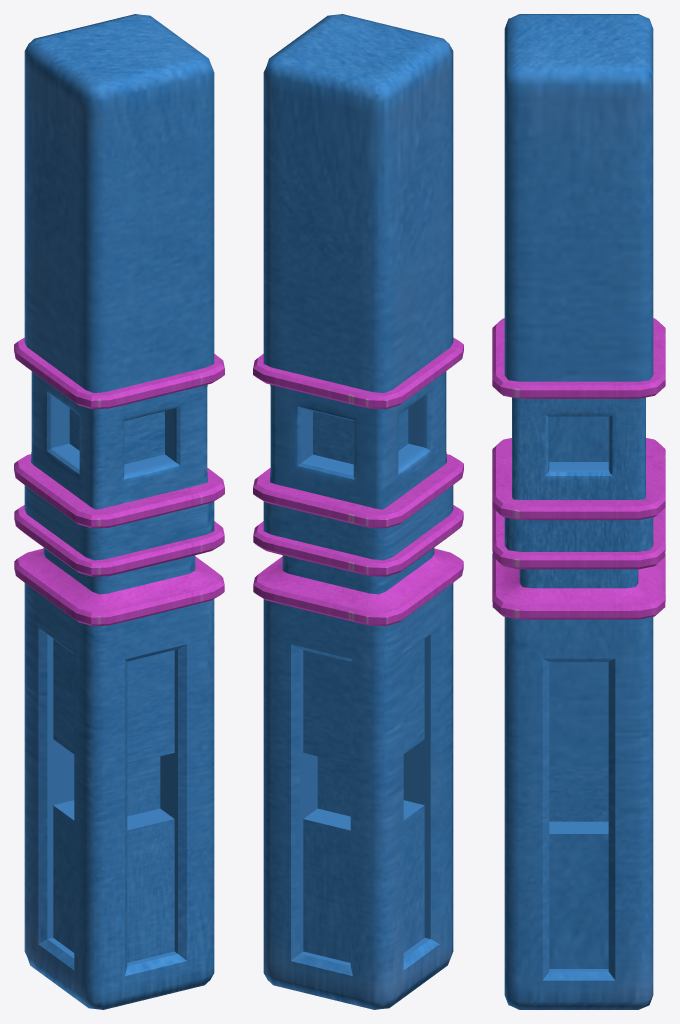
File: Pillar_PsychShift_Textured 1.fbx
3 renders of one model, left to right at view 1: azimuth 30°, elevation 25°; view 2: azimuth 150°, elevation 25°; view 3: azimuth 270°, elevation 25°, orthographic.
Parts seen in each view (by area): view 1: polySurface27, polySurface7; view 2: polySurface27, polySurface7; view 3: polySurface27, polySurface7.
Boxes of the visible parts, x1=… form: polySurface27: x1=24, y1=14, x2=214, y2=1009; polySurface7: x1=14, y1=337, x2=224, y2=626; polySurface27: x1=263, y1=14, x2=453, y2=1009; polySurface7: x1=253, y1=337, x2=463, y2=626; polySurface27: x1=504, y1=14, x2=653, y2=1009; polySurface7: x1=492, y1=318, x2=665, y2=619.
Size of the model in its own units: 11.56 by 69.26 by 11.56.
2 materials, 2 textured.
